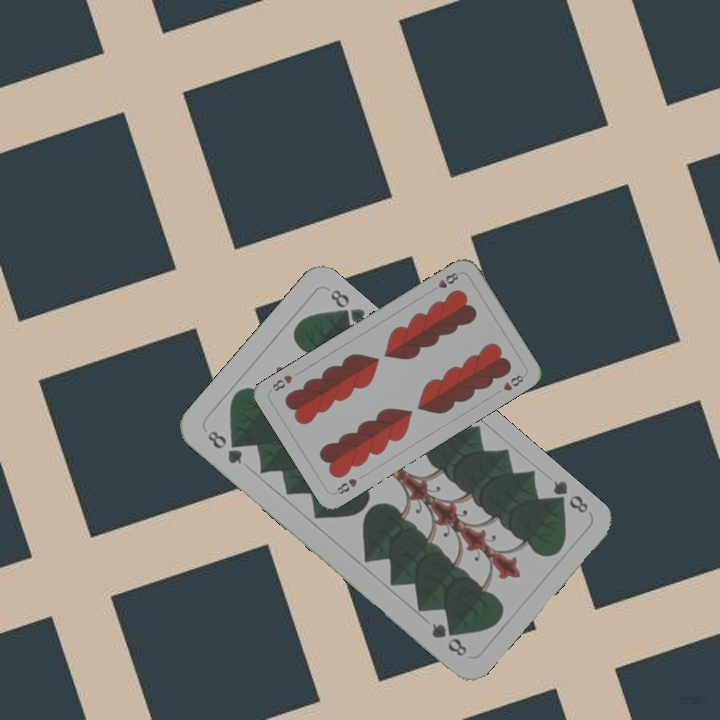G8: (545, 475, 591, 516), (203, 426, 246, 467)
H8: (427, 268, 461, 295), (331, 474, 360, 497)
